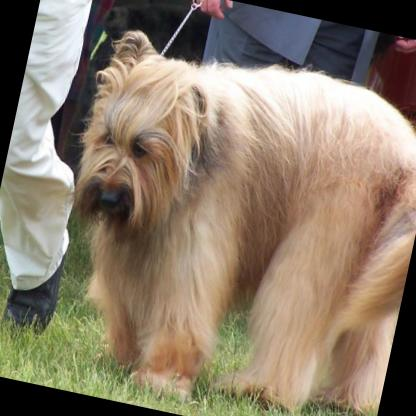briard: (23, 24, 416, 416)
